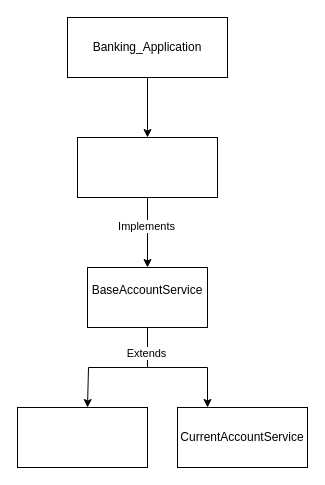
Image size: 325x485. Some labels were removed from this diagram. The centre of each missing label's shape, as x and y in pixels:
"AccountCreationService" belongs at point 147,167.
"SavingAccountService" belongs at point 82,437.
